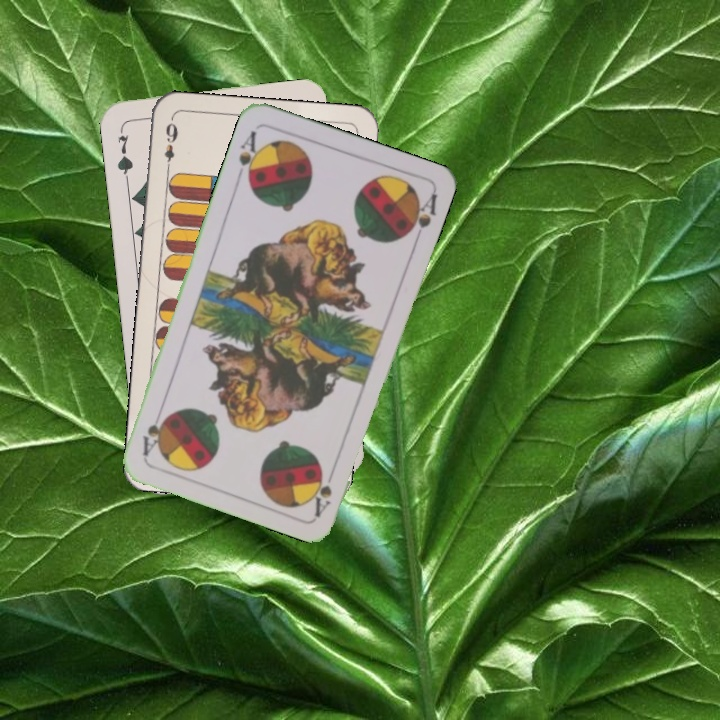E9: (160, 116, 180, 175)
G7: (113, 123, 136, 182)
SA: (232, 126, 265, 186), (309, 461, 339, 518)
